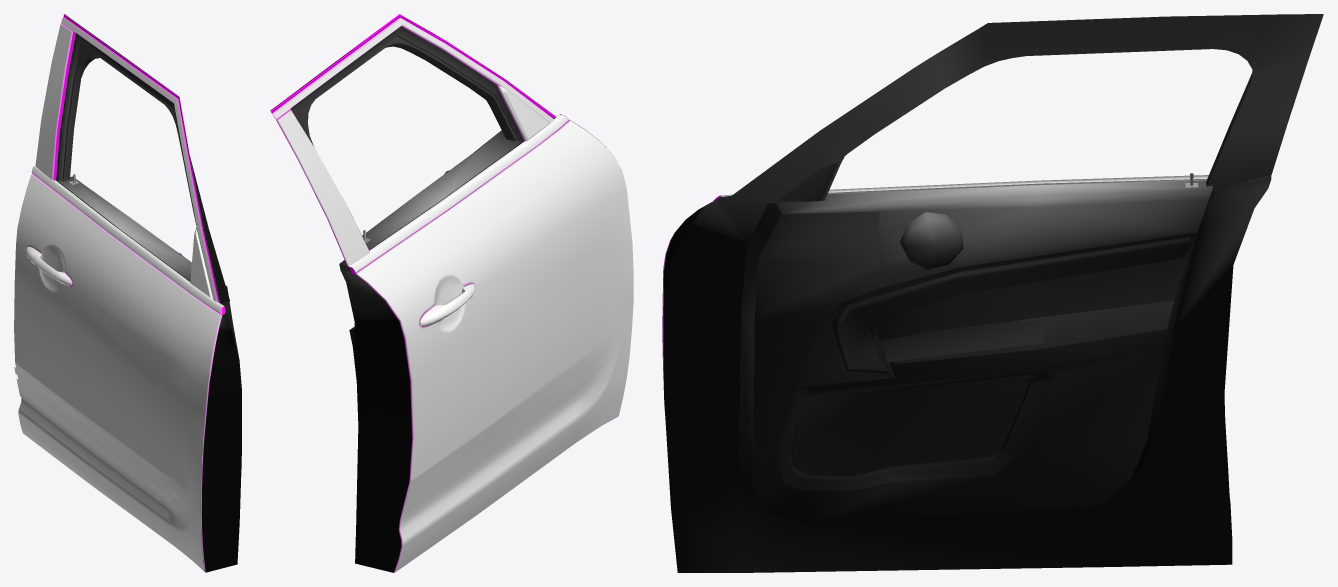
File: Car_Mini_CountrymanJCW_2017_DoorR_SetA.fbx
The picture shows the model from 3 angles, left to right: view 1: azimuth 30°, elevation 25°; view 2: azimuth 150°, elevation 25°; view 3: azimuth 270°, elevation 25°; orthographic projection. The views are drawn at different scales.
Visible parts, largest first — view 1: DoorR 6; view 2: DoorR 6; view 3: DoorR 6.
Boxes of the visible parts, <box> form: DoorR 6: <box>14,14,241,572</box>; DoorR 6: <box>270,14,633,572</box>; DoorR 6: <box>662,14,1323,572</box>.
Size of the model in its own units: 0.307 by 1.16 by 1.19.
